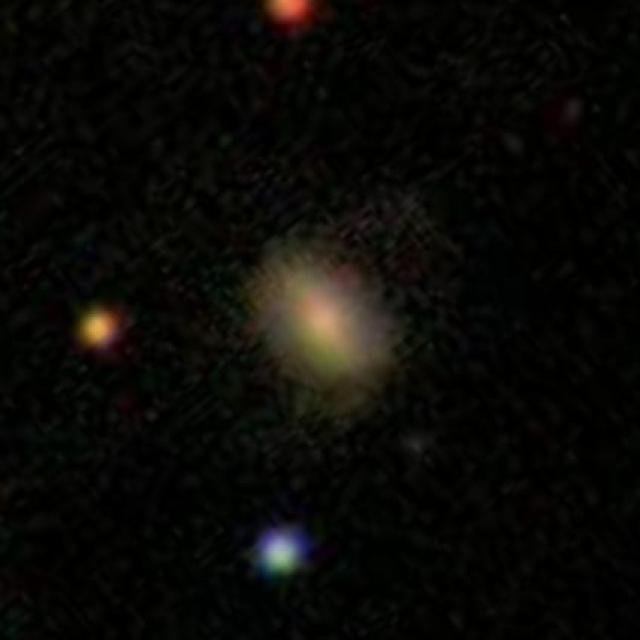galaxy: (243, 212, 432, 440), (249, 519, 321, 588), (73, 301, 130, 364), (262, 1, 318, 42)
